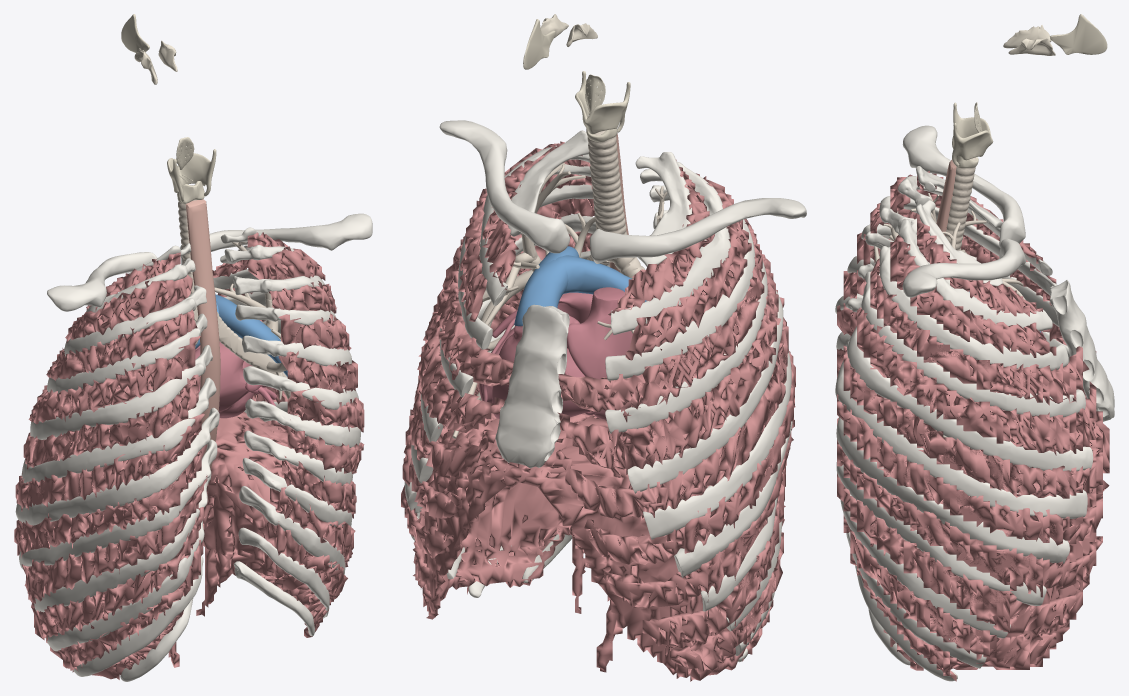
File: adult-male-thoracic.glb
The picture shows the model from 3 angles, left to right: view 1: azimuth 30°, elevation 25°; view 2: azimuth 150°, elevation 25°; view 3: azimuth 270°, elevation 25°; orthographic projection. The views are drawn at different scales.
Parts seen in each view (by area): view 1: FMA9756, FMA13295, FMA8229, FMA9757, FMA7131, FMA8175, FMA8066, FMA8283, FMA8364, FMA13323, FMA8445, FMA13322 (+22 smaller); view 2: FMA9756, FMA9757, FMA13295, FMA7487, FMA13322, FMA13323, FMA8175, FMA7882, FMA7909, FMA7957, FMA8066, FMA11359 (+20 smaller); view 3: FMA9756, FMA9757, FMA8093, FMA8202, FMA8256, FMA8148, FMA8039, FMA7487, FMA13322, FMA13295, FMA8310, FMA13323 (+17 smaller).
Part boxes in pixels (bbox=[...]): FMA9756: bbox=[14, 232, 364, 672]; FMA13295: bbox=[46, 412, 322, 679]; FMA8229: bbox=[15, 407, 219, 525]; FMA9757: bbox=[16, 291, 361, 669]; FMA7131: bbox=[185, 199, 220, 486]; FMA8175: bbox=[21, 377, 216, 484]; FMA8066: bbox=[30, 345, 212, 439]; FMA8283: bbox=[19, 439, 217, 569]; FMA8364: bbox=[34, 471, 211, 612]; FMA13323: bbox=[180, 213, 372, 264]; FMA8445: bbox=[45, 521, 204, 651]; FMA13322: bbox=[47, 252, 157, 311]; FMA9756: bbox=[401, 141, 795, 661]; FMA9757: bbox=[403, 198, 792, 674]; FMA13295: bbox=[424, 413, 748, 681]; FMA7487: bbox=[495, 304, 569, 467]; FMA13322: bbox=[589, 198, 806, 263]; FMA13323: bbox=[439, 120, 569, 253]; FMA8175: bbox=[643, 351, 791, 539]; FMA7882: bbox=[611, 161, 730, 334]; FMA7909: bbox=[605, 185, 754, 380]; FMA7957: bbox=[605, 210, 767, 433]; FMA8066: bbox=[627, 289, 783, 493]; FMA11359: bbox=[567, 287, 632, 419]; FMA9756: bbox=[837, 171, 1082, 681]; FMA9757: bbox=[837, 209, 1109, 669]; FMA8093: bbox=[847, 306, 1093, 471]; FMA8202: bbox=[835, 341, 1087, 518]; FMA8256: bbox=[836, 417, 1069, 563]; FMA8148: bbox=[861, 271, 1085, 417]; FMA8039: bbox=[879, 241, 1068, 370]; FMA7487: bbox=[1050, 280, 1114, 421]; FMA13322: bbox=[902, 125, 1025, 247]; FMA13295: bbox=[884, 423, 1102, 670]; FMA8310: bbox=[836, 462, 1046, 605]; FMA13323: bbox=[902, 238, 1025, 297].
Size of the model in its own units: 0.2892 by 0.5279 by 0.2102.
